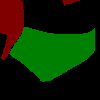abbigliamento: (0, 0, 24, 60), (62, 0, 80, 6)
mutande: (9, 26, 95, 82)
